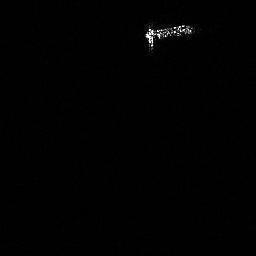ship: (132, 21, 206, 49)
